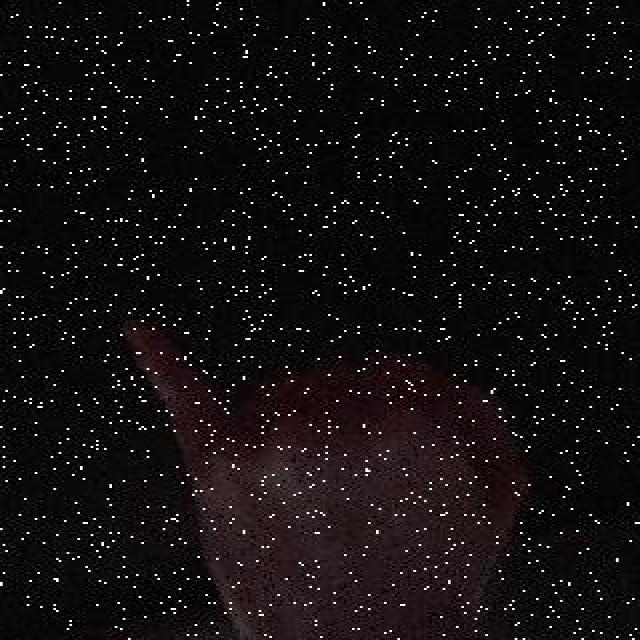I: (116, 314, 535, 640)
